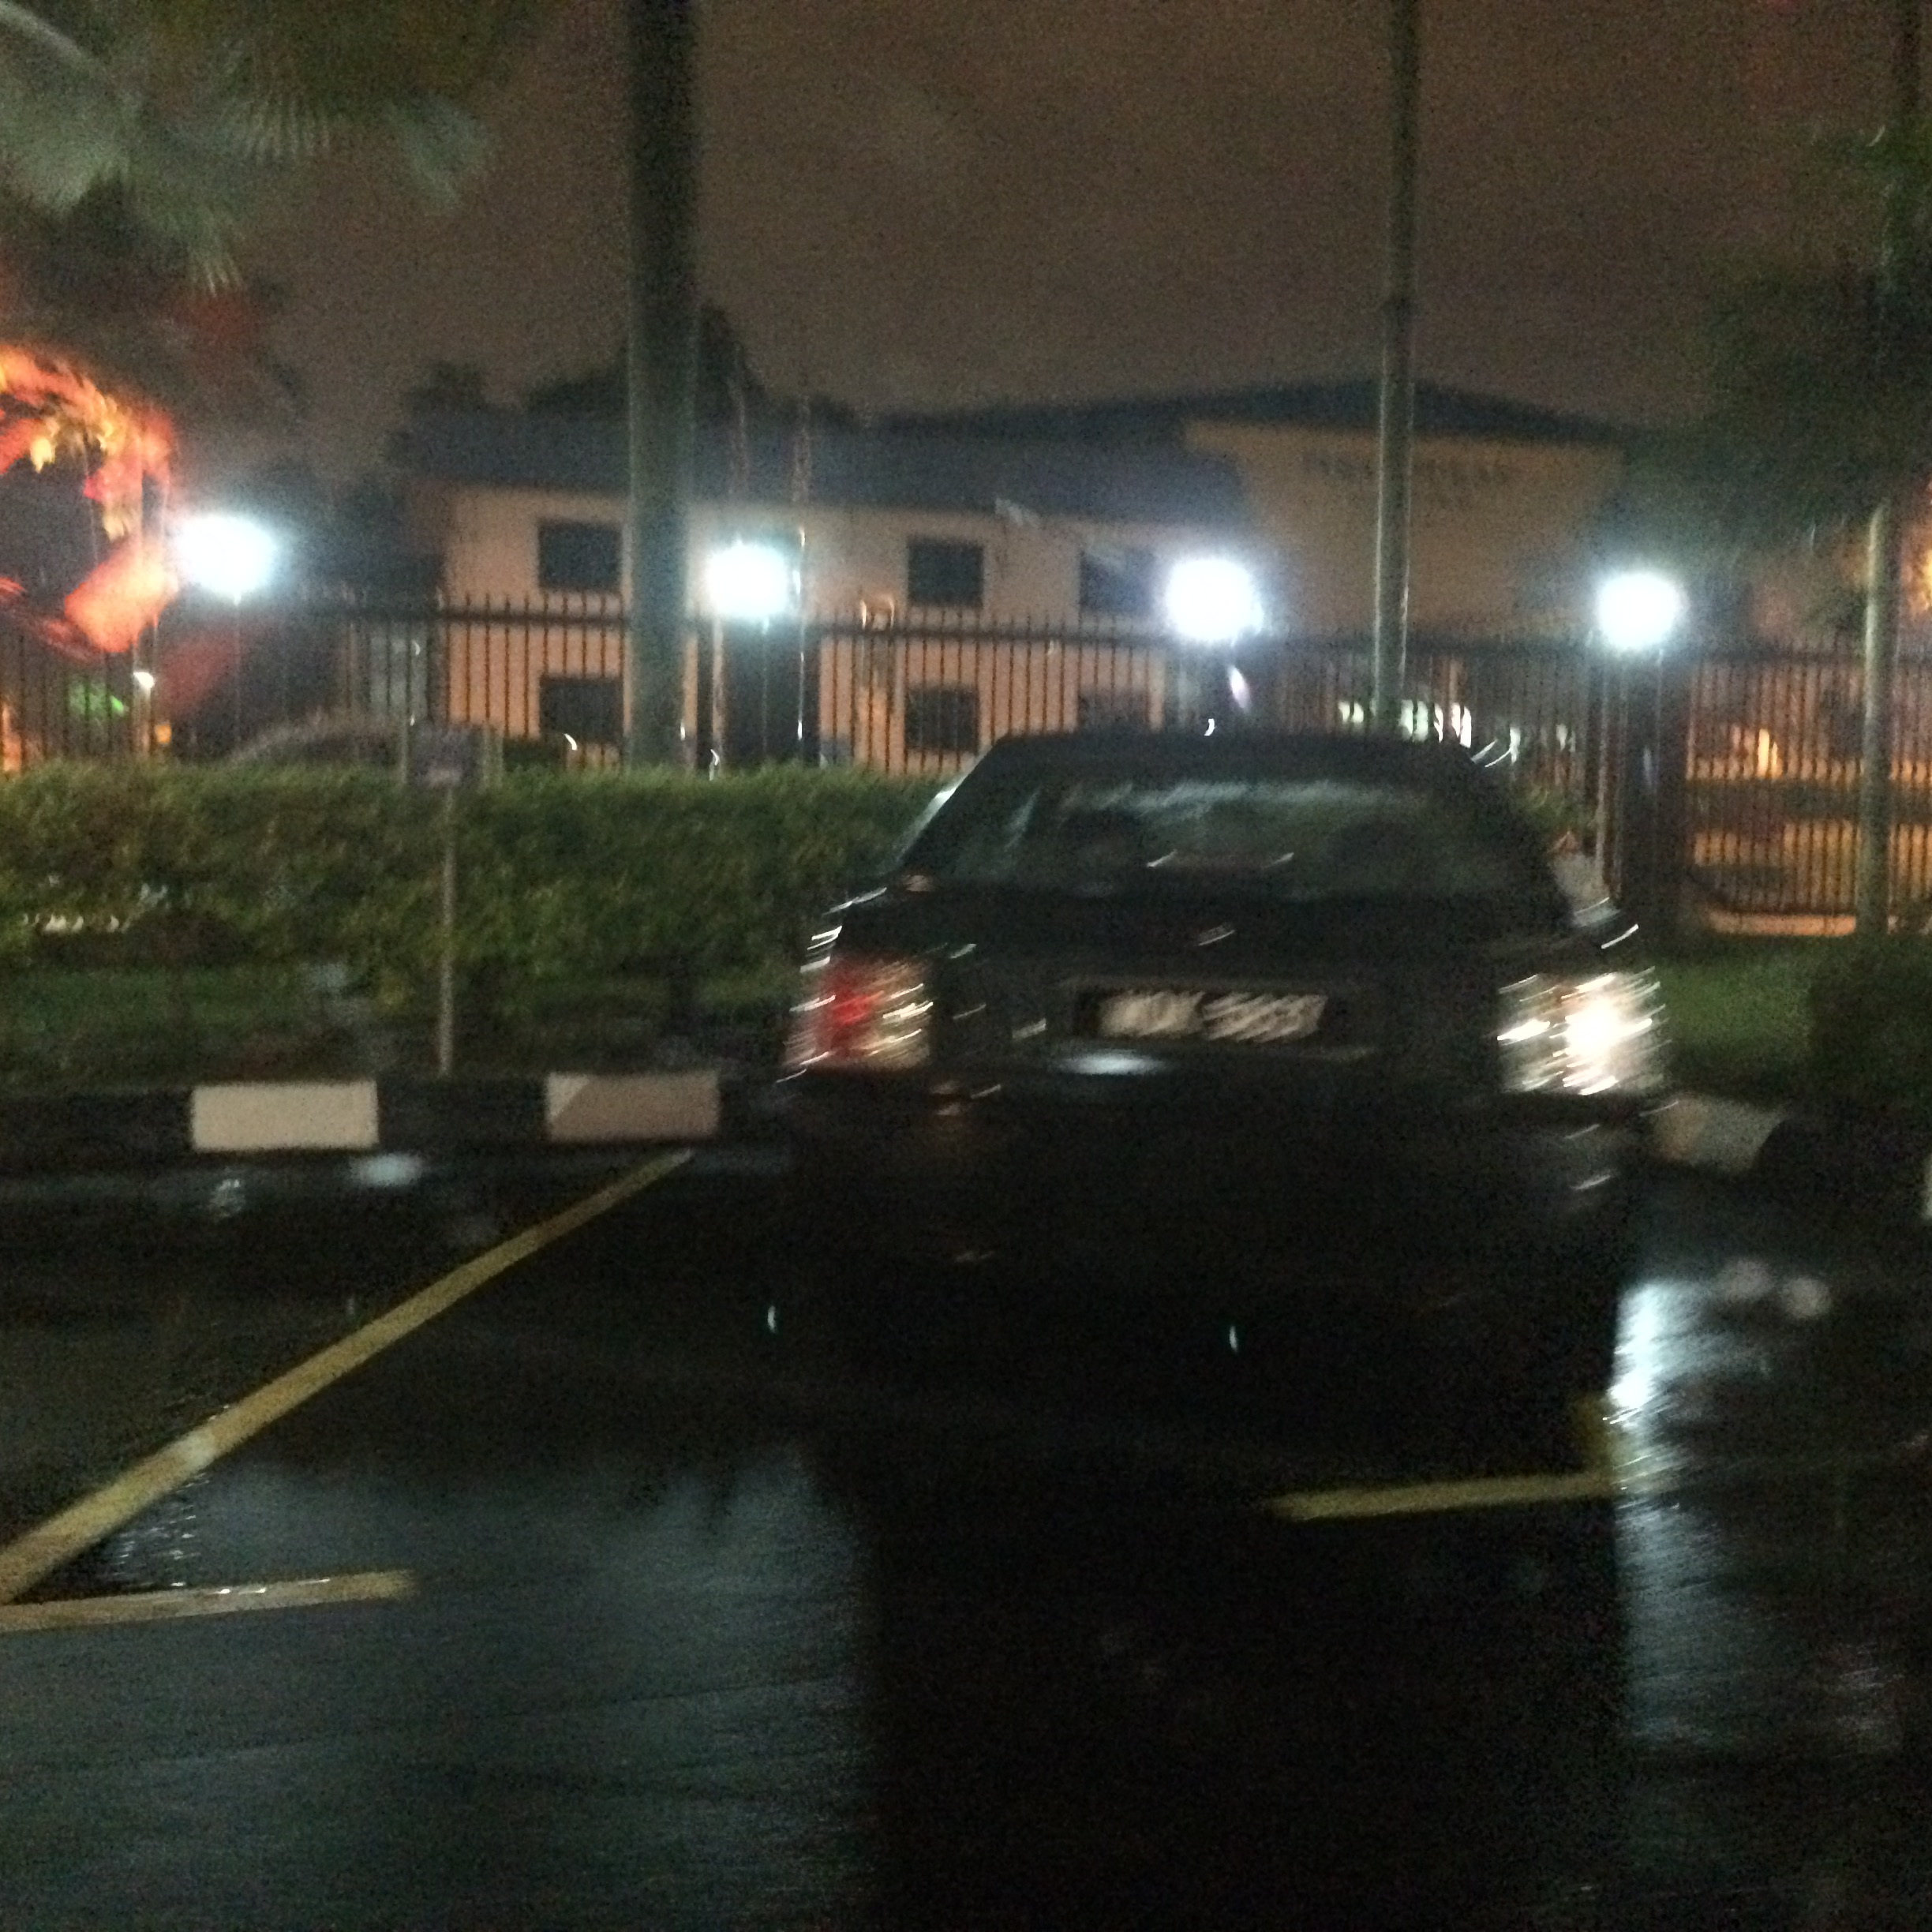car: (722, 651, 1721, 1463)
